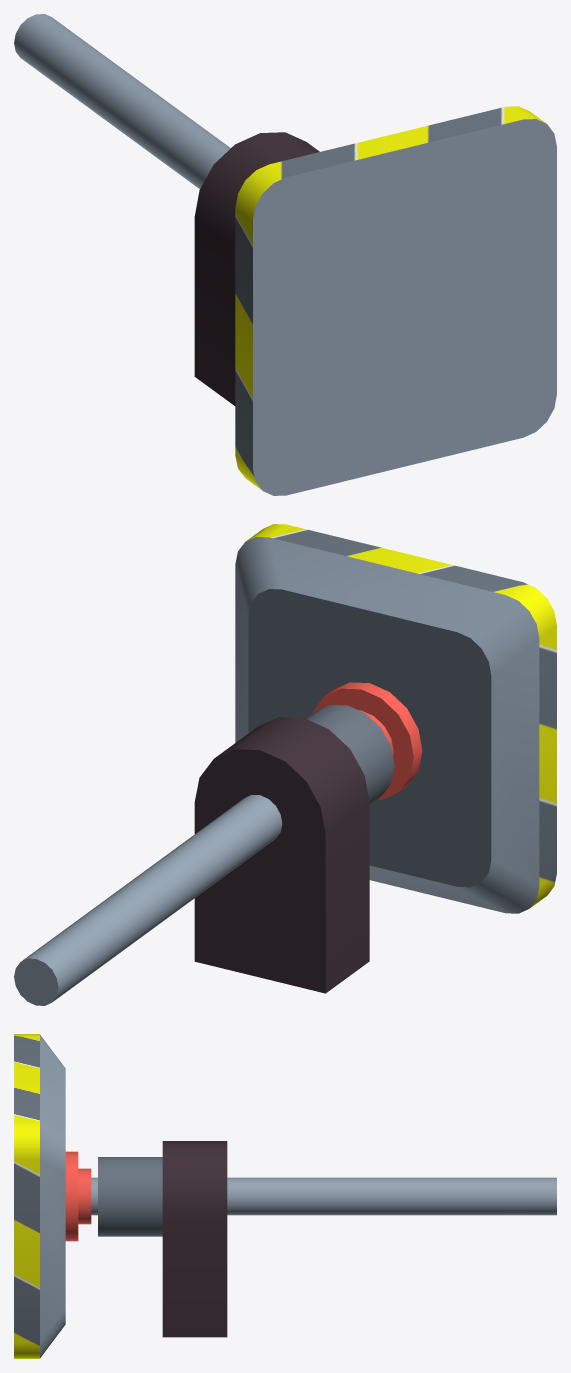
Rendered from Press.fbx.
The picture shows the model from 3 angles, top to bottom: view 1: azimuth 30°, elevation 25°; view 2: azimuth 150°, elevation 25°; view 3: azimuth 270°, elevation 25°; orthographic projection. The views are drawn at different scales.
Visible parts, largest first — view 1: Press.001, PressBase.001; view 2: Press.001, PressBase.001; view 3: Press.001, PressBase.001.
Part boxes in pixels (x1,y1,x2,y2): Press.001: (14,14,556,495); PressBase.001: (194,132,319,405); Press.001: (14,524,556,1005); PressBase.001: (194,705,394,993); Press.001: (14,1034,556,1358); PressBase.001: (98,1141,227,1337).
Size of the model in its own units: 200 by 200 by 420.
